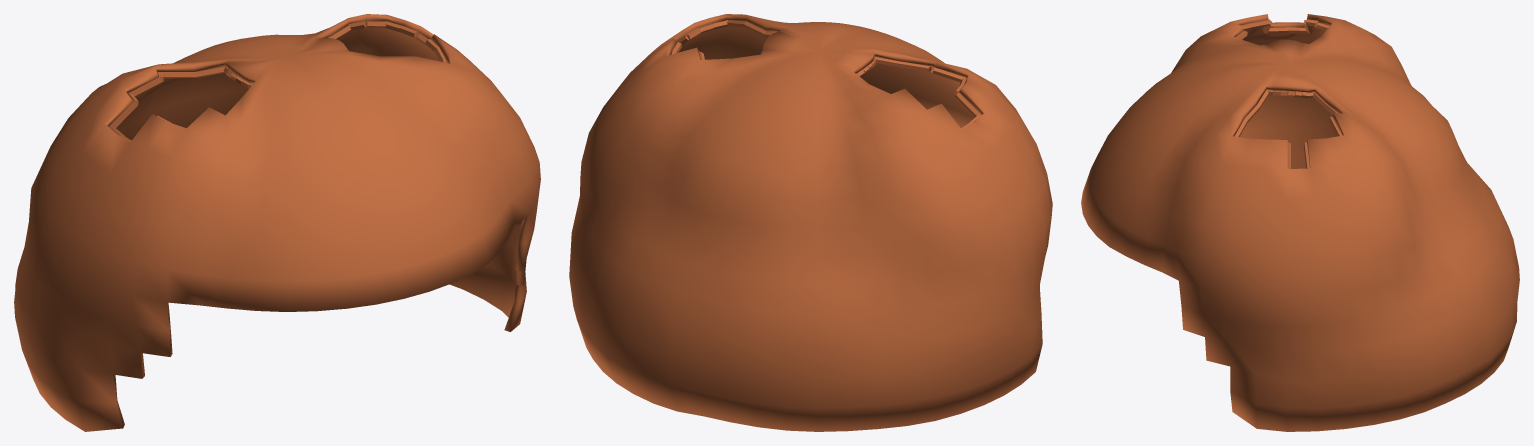
The model's file is Helm_RABBIT.fbx.
The picture shows the model from 3 angles, left to right: view 1: azimuth 30°, elevation 25°; view 2: azimuth 150°, elevation 25°; view 3: azimuth 270°, elevation 25°; orthographic projection. The views are drawn at different scales.
Parts seen in each view (by area): view 1: Helm_RABBIT; view 2: Helm_RABBIT; view 3: Helm_RABBIT.
Boxes of the visible parts, <box> form: Helm_RABBIT: <box>14,14,540,431</box>; Helm_RABBIT: <box>569,14,1052,431</box>; Helm_RABBIT: <box>1081,14,1519,431</box>.
Bounding box in the file's own units: 0.6593 × 0.4194 × 0.6046.
